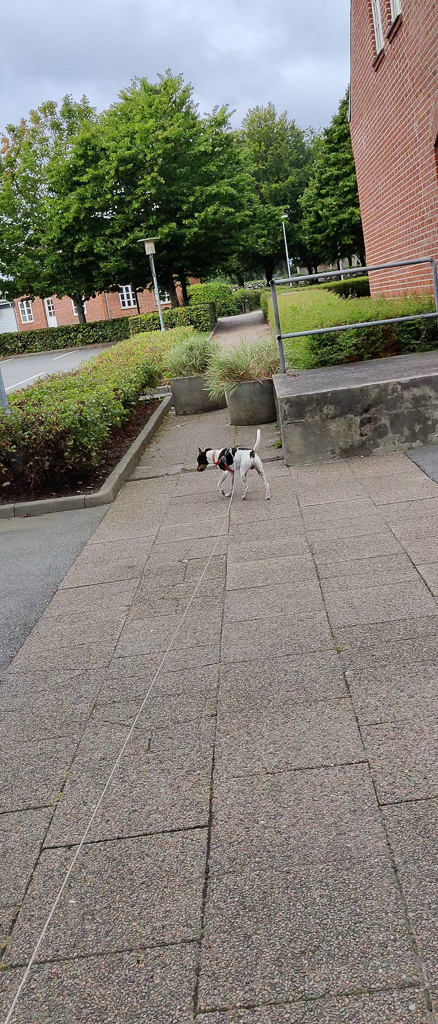Dog: (187, 423, 281, 508)
